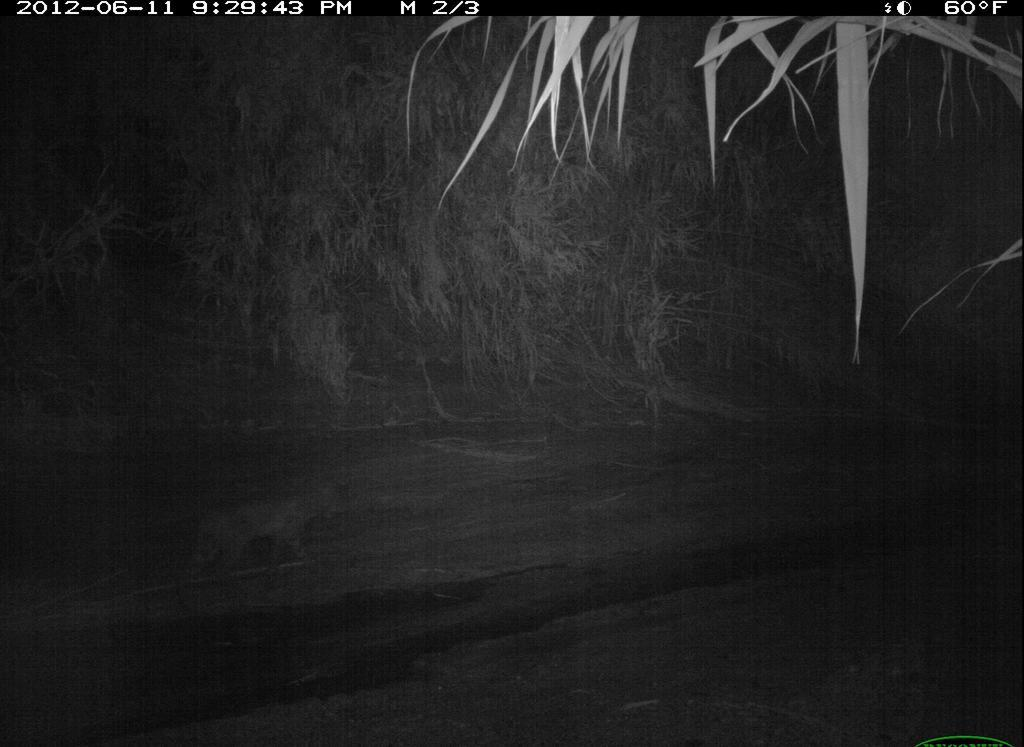bobcat: (159, 466, 373, 578)
